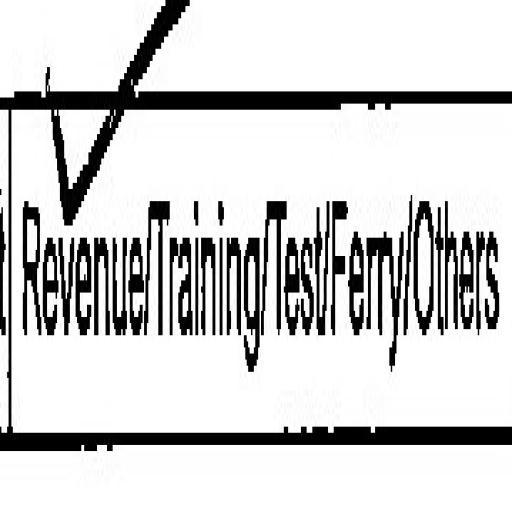check: (8, 0, 150, 512)
